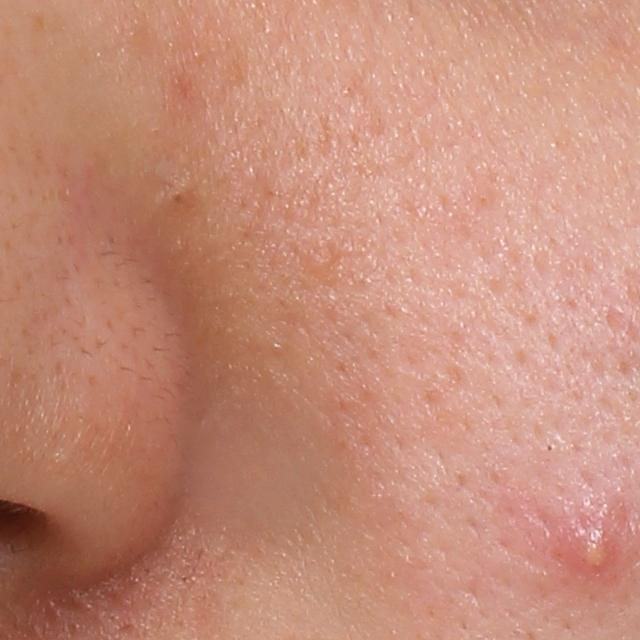comedo: (159, 185, 197, 211)
pustule: (569, 514, 625, 580)
